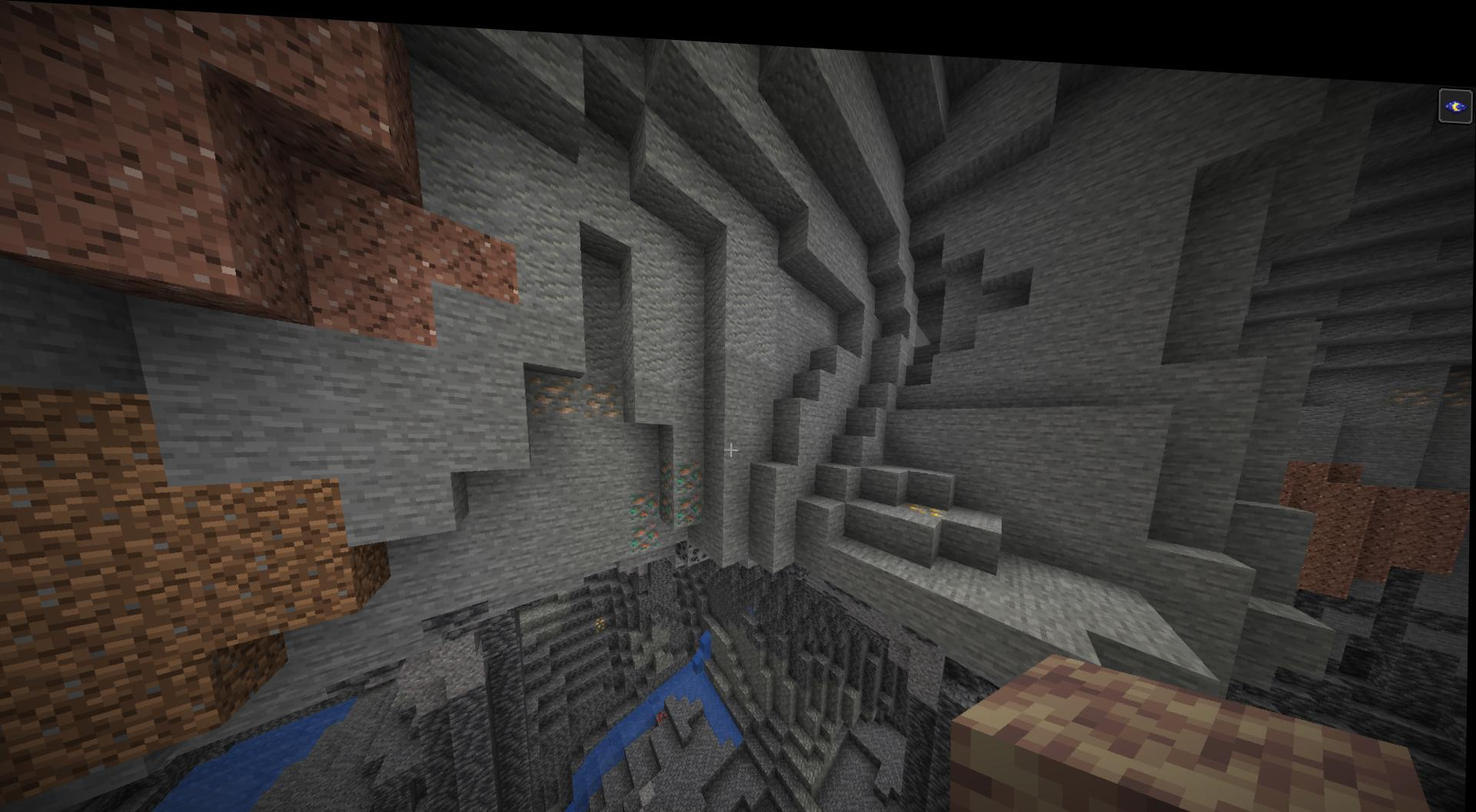iron ore: (1387, 347, 1473, 398), (527, 362, 581, 414), (576, 368, 624, 417)
